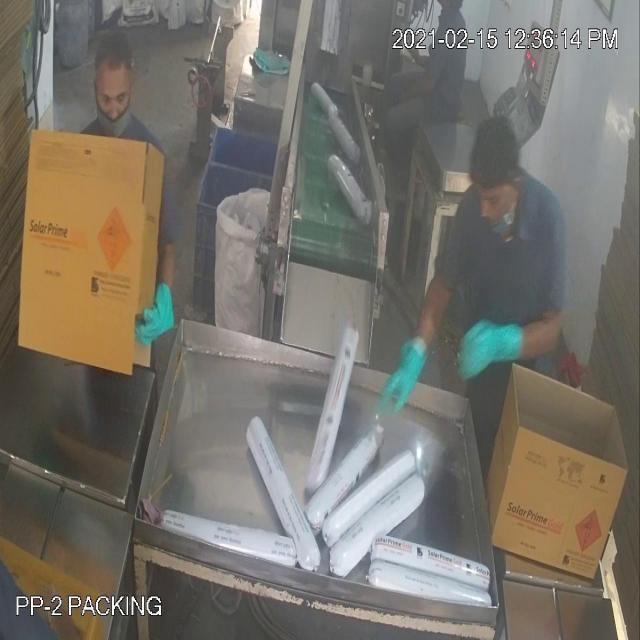Gloves: (62, 94, 498, 374)
